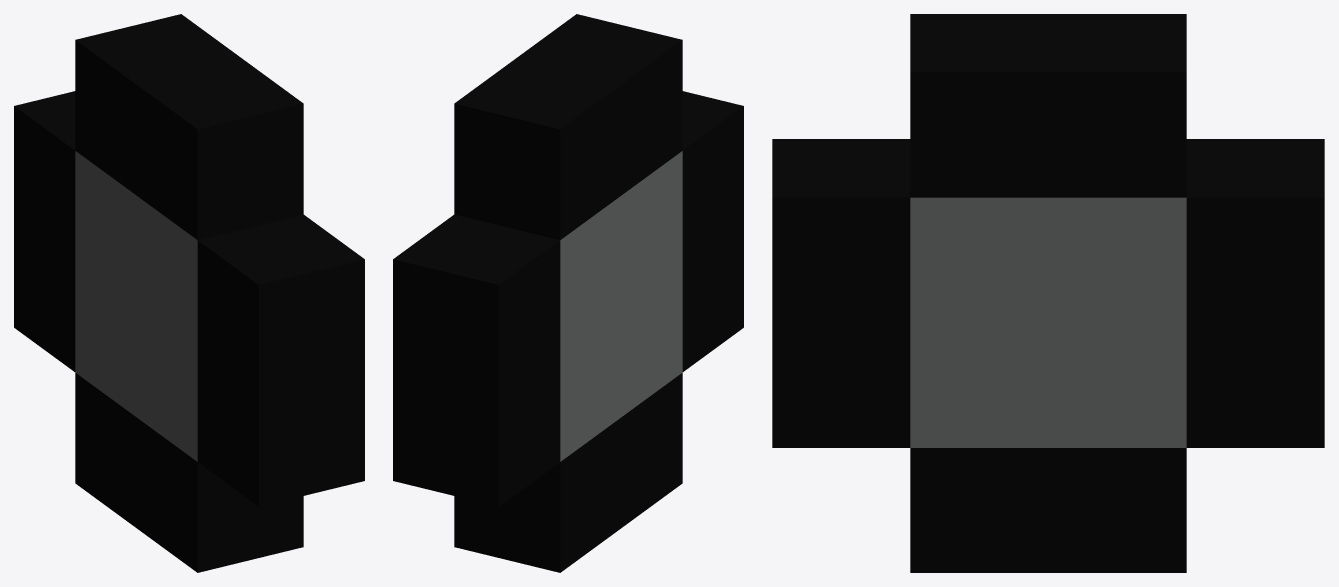
Rendered from taxi_wheels.gltf.
3 views of the same model, side by side, from view 1: azimuth 30°, elevation 25°; view 2: azimuth 150°, elevation 25°; view 3: azimuth 270°, elevation 25° (orthographic). The views are drawn at different scales.
Parts seen in each view (by area): view 1: Layer.1; view 2: Layer.1; view 3: Layer.1.
Part boxes in pixels (box(x1,y1,x2,y2)): Layer.1: box(14, 14, 364, 572); Layer.1: box(393, 14, 743, 572); Layer.1: box(772, 14, 1324, 572).
Size of the model in its own units: 1 by 4 by 4.
1 material, 1 textured.
